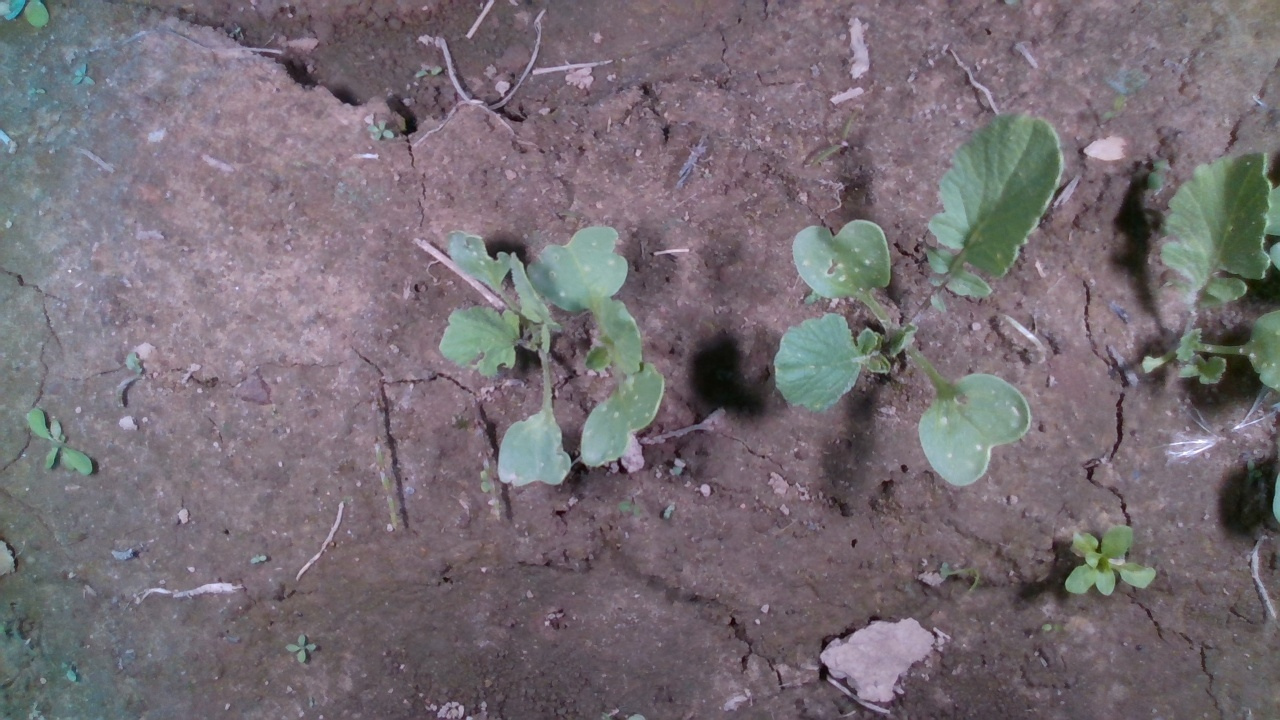weed: (24, 407, 94, 477), (811, 107, 859, 167), (284, 632, 316, 664), (364, 117, 394, 143)
